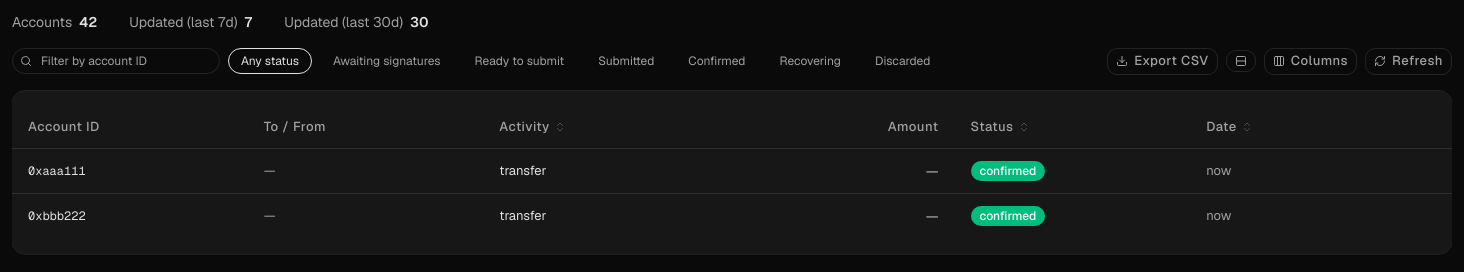
Test: TransactionsPanel › narrows the feed to an account ID substring
Expected: the text "0xbbb222" is shown, [28,208,86,224]
Type "aaa1" into the field labelled "Filter by account ID" at point(116, 61), box [12,48,220,74]
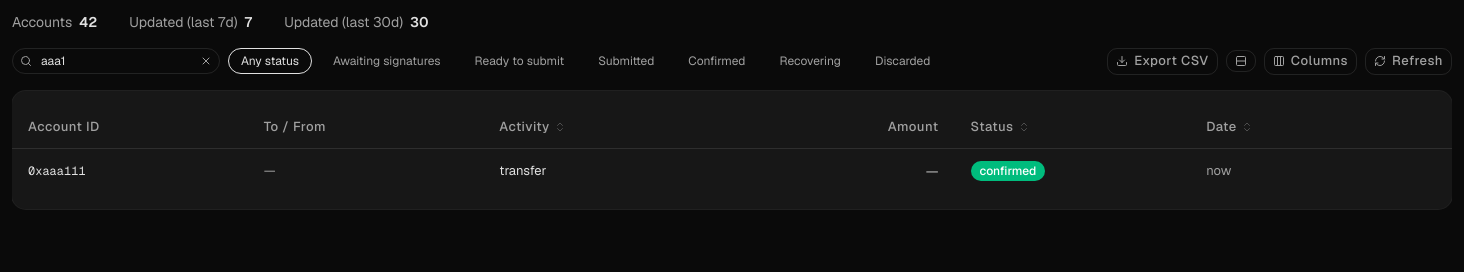
Expected: the text "0xaaa111" is shown, [28,163,86,179]
Result: the text "0xbbb222" is gone
